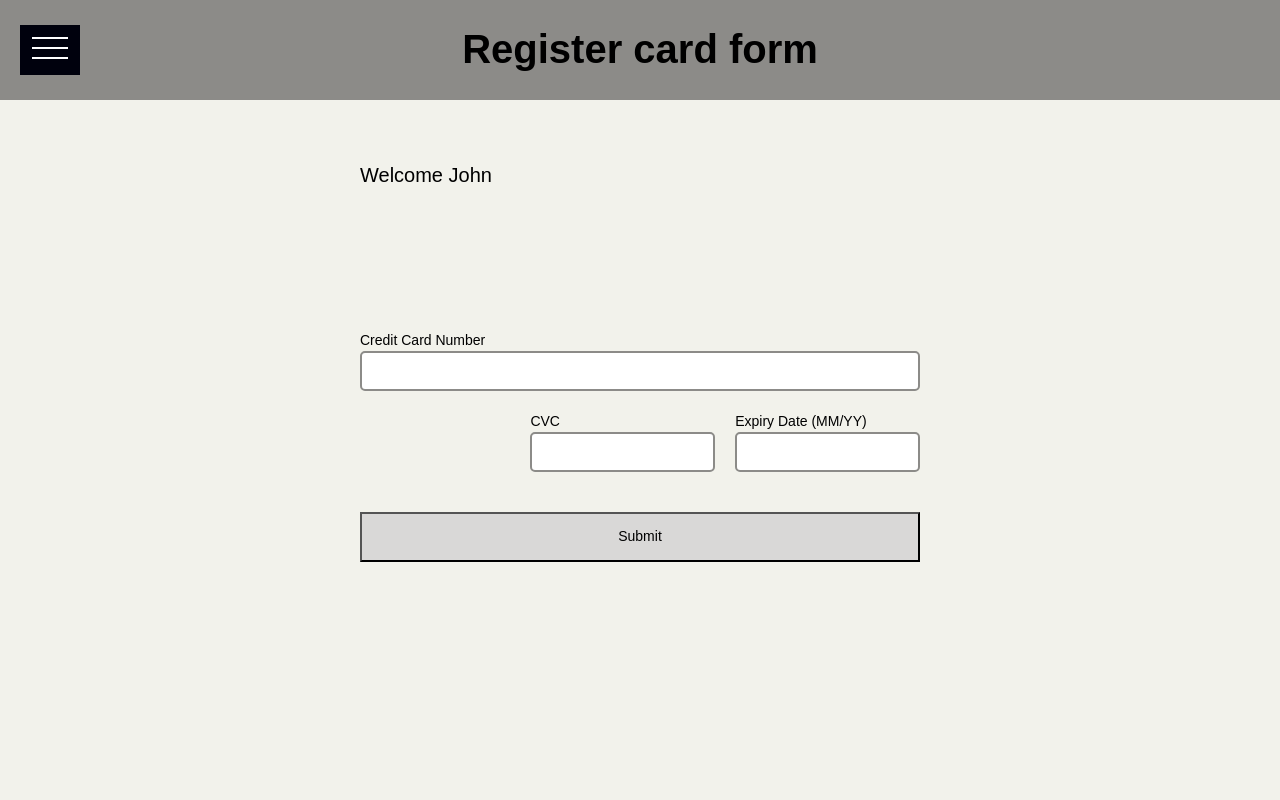
Test case: Menu toggle › when open page menu heading is readable
What coordinates should you click on to do the following:
click the button named "open main menu"
I would click on:
 (50, 48)
Its box is x1=32 y1=47 x2=68 y2=49.
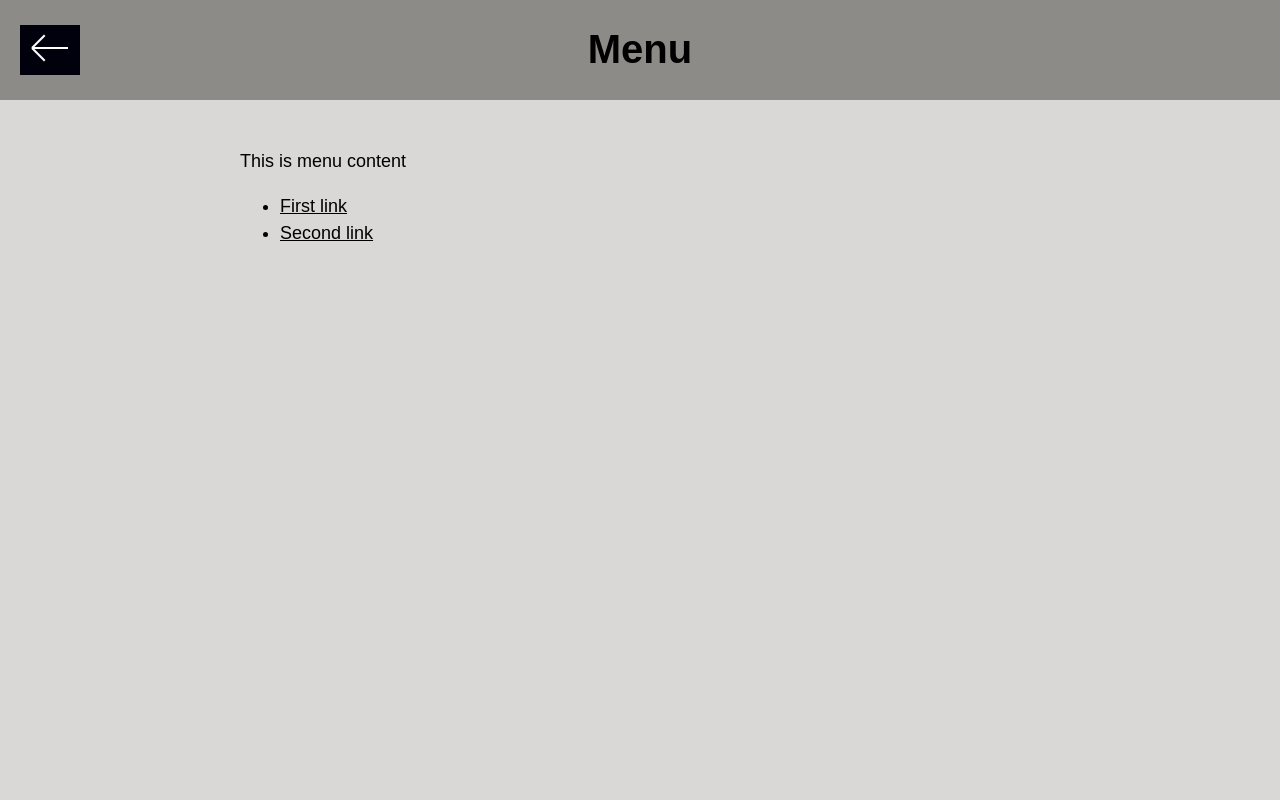
Check: the heading "Menu" is shown, box x1=588 y1=27 x2=692 y2=71
